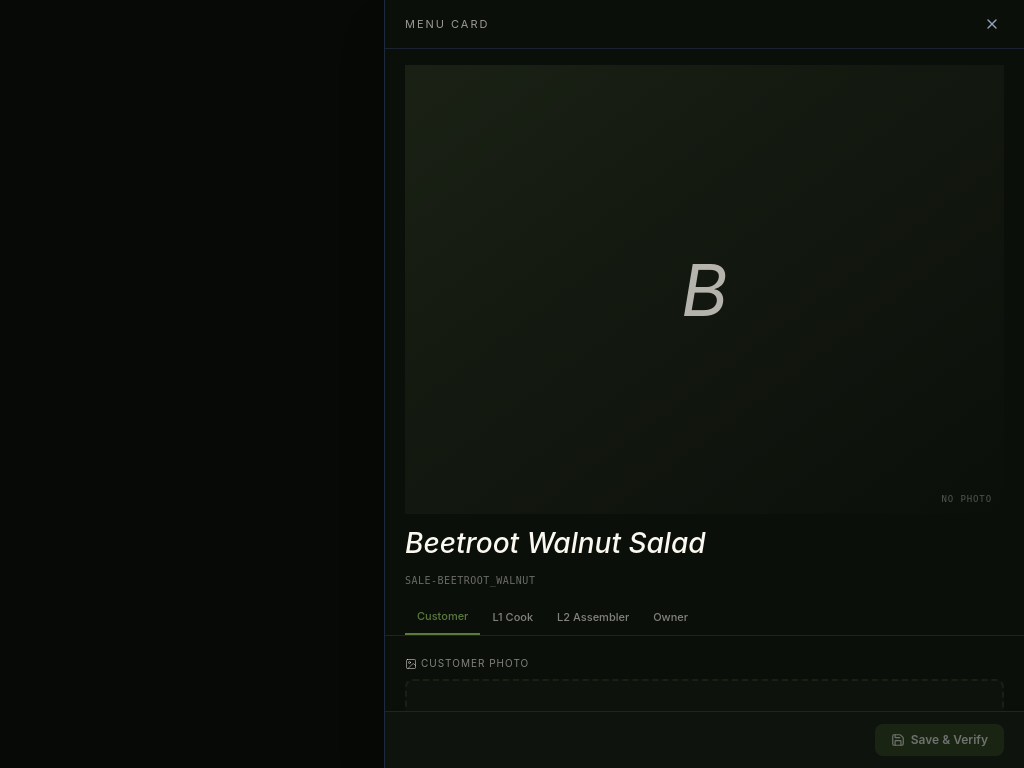
shelf life on a finished dish › shows the value the dish already has
Click the button "L2 Assembler" at (593, 618), box x1=545 y1=600 x2=641 y2=635
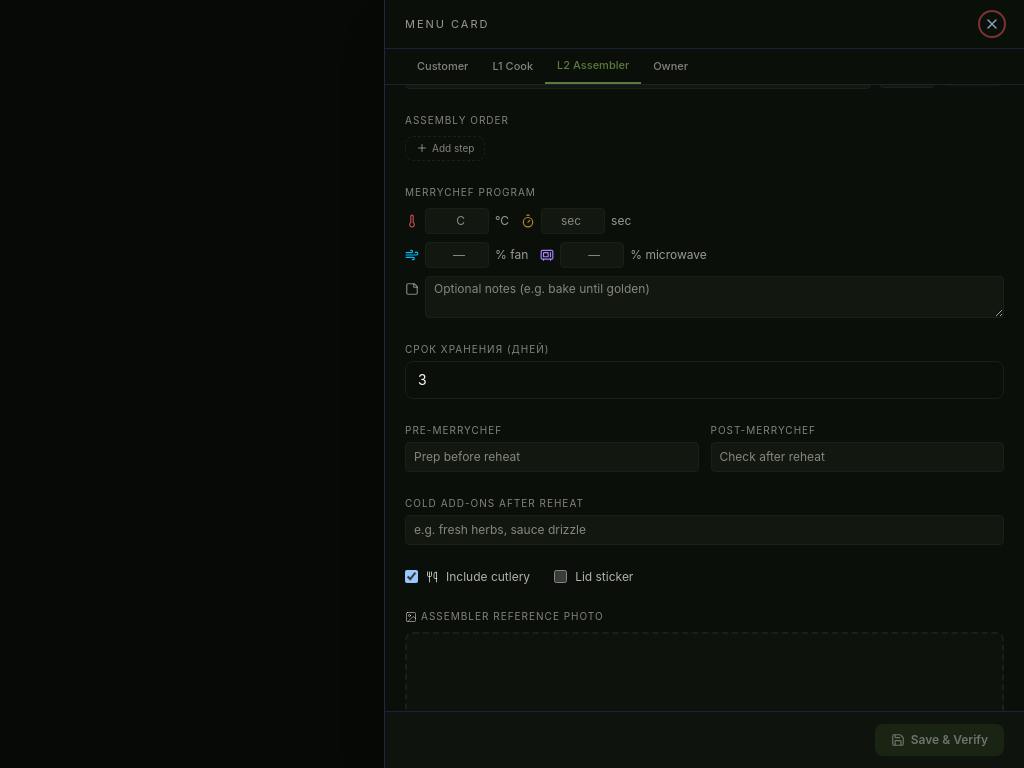
Result: the 5th number field holds "3" at x1=405 y1=361 x2=1004 y2=399
